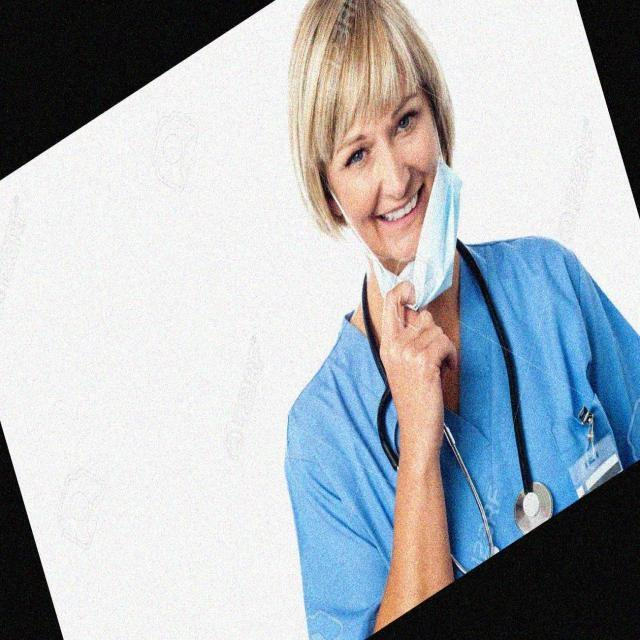hairnet: (312, 37, 467, 309)
